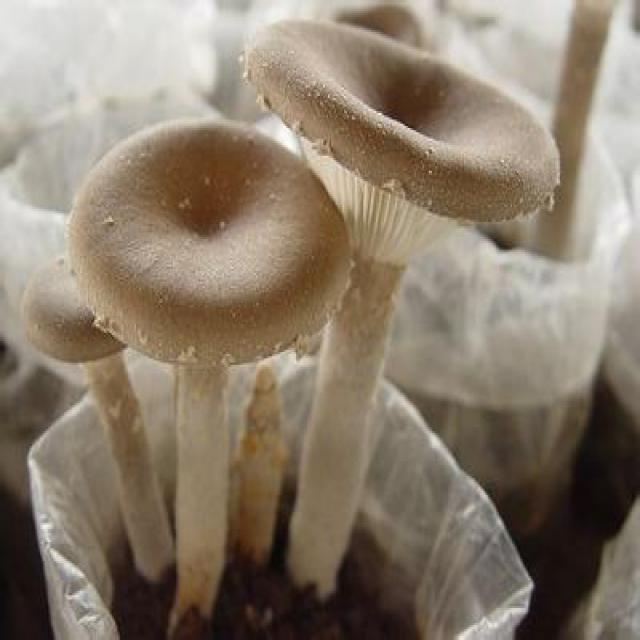Clitocybe maxima: (241, 20, 562, 603), (71, 120, 350, 609), (21, 251, 179, 587)
